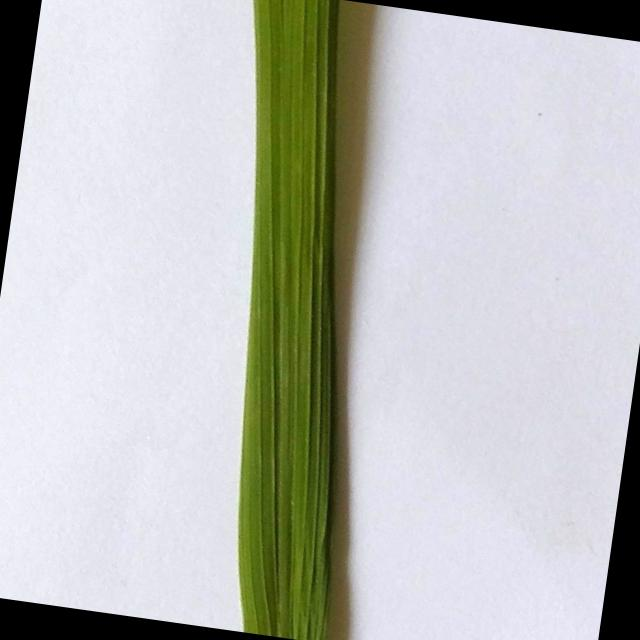Rice_Healthy: (238, 0, 338, 640)
